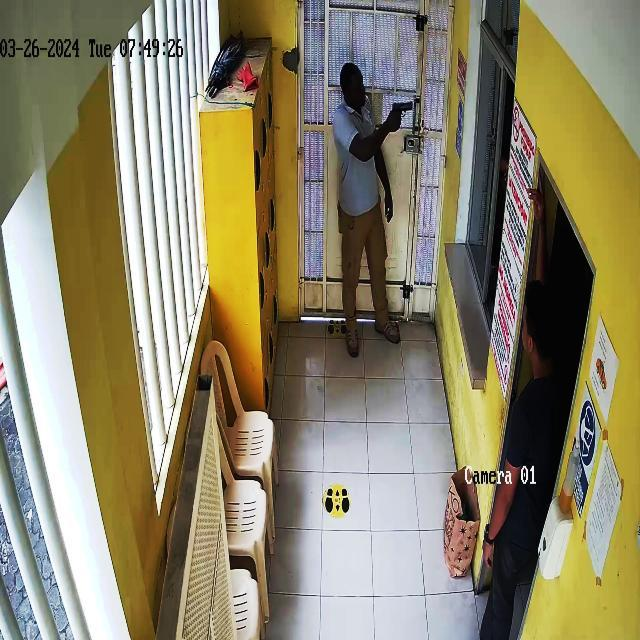Gun: (379, 96, 422, 136)
